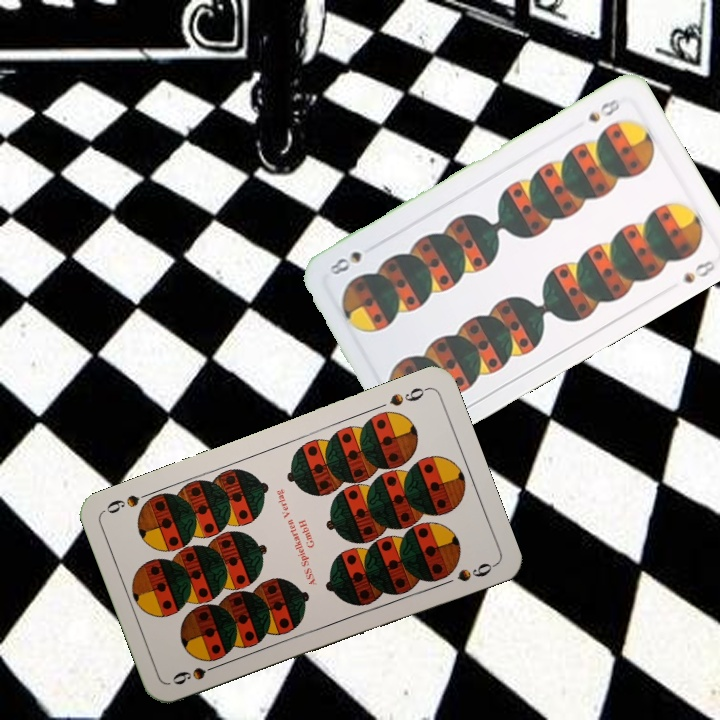S8: (584, 94, 624, 125)
S9: (168, 659, 225, 688), (385, 383, 431, 409)
